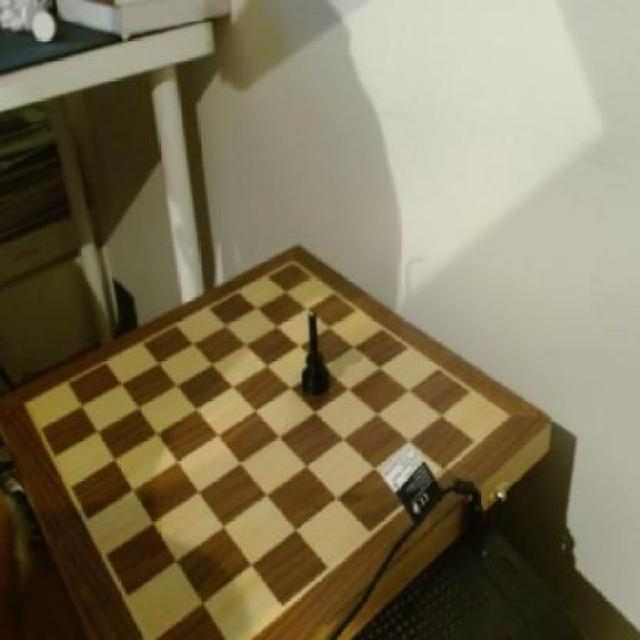black-king: (295, 309, 338, 406)
